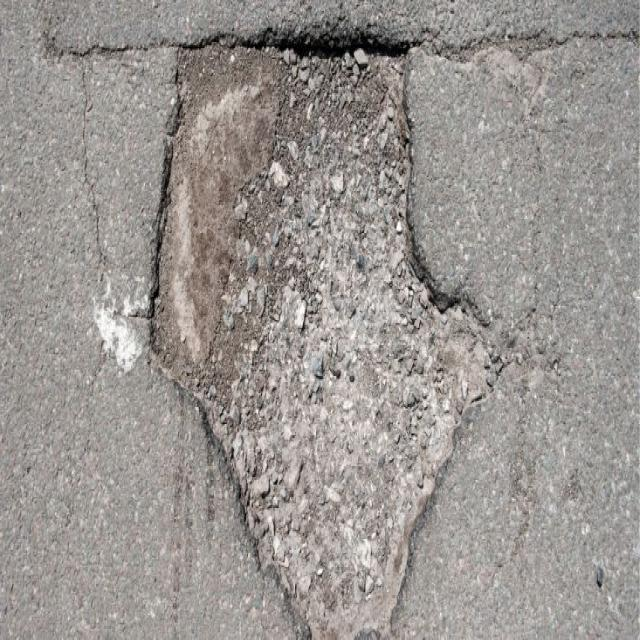Pothole: (141, 20, 512, 640)
